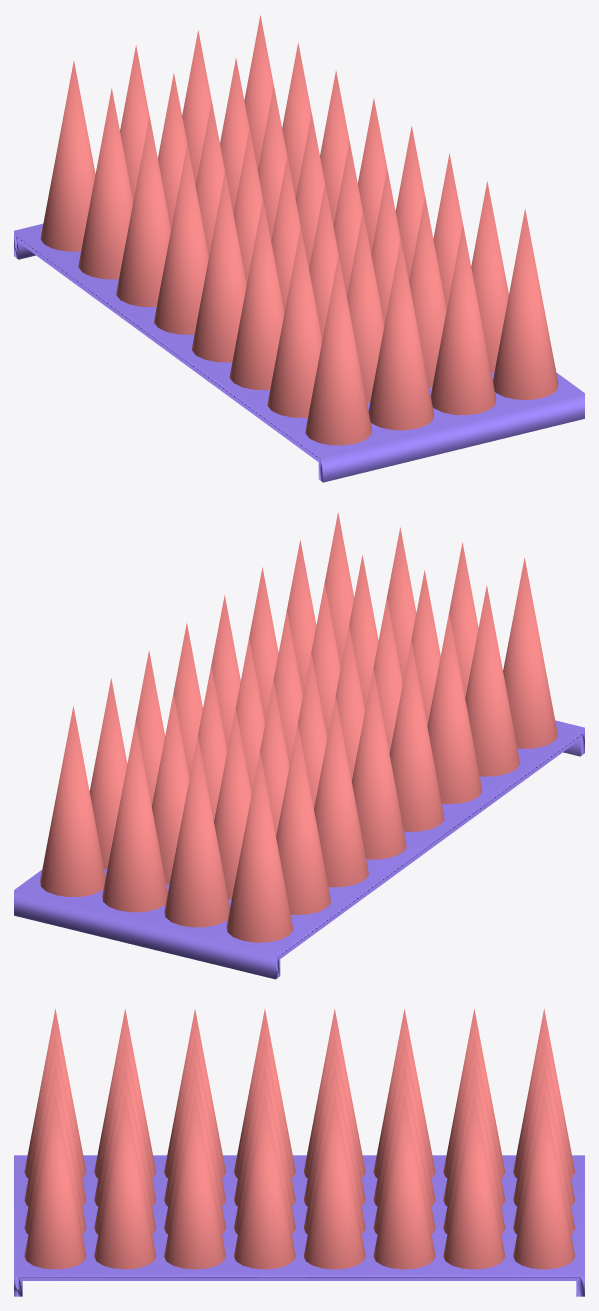
The model's file is Spikes_FBX.fbx.
3 renders of one model, top to bottom at view 1: azimuth 30°, elevation 25°; view 2: azimuth 150°, elevation 25°; view 3: azimuth 270°, elevation 25°, orthographic. The views are drawn at different scales.
Visible parts, largest first — view 1: Kolce_Gotowe_Obj_Group1751; view 2: Kolce_Gotowe_Obj_Group1751; view 3: Kolce_Gotowe_Obj_Group1751.
Part boxes in pixels (bbox=[...]): Kolce_Gotowe_Obj_Group1751: bbox=[14, 15, 584, 482]; Kolce_Gotowe_Obj_Group1751: bbox=[14, 512, 584, 979]; Kolce_Gotowe_Obj_Group1751: bbox=[14, 1008, 584, 1296].
Bounding box in the file's own units: 0.6037 × 0.4482 × 1.24.
